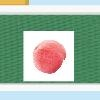raw: (31, 39, 68, 75)
